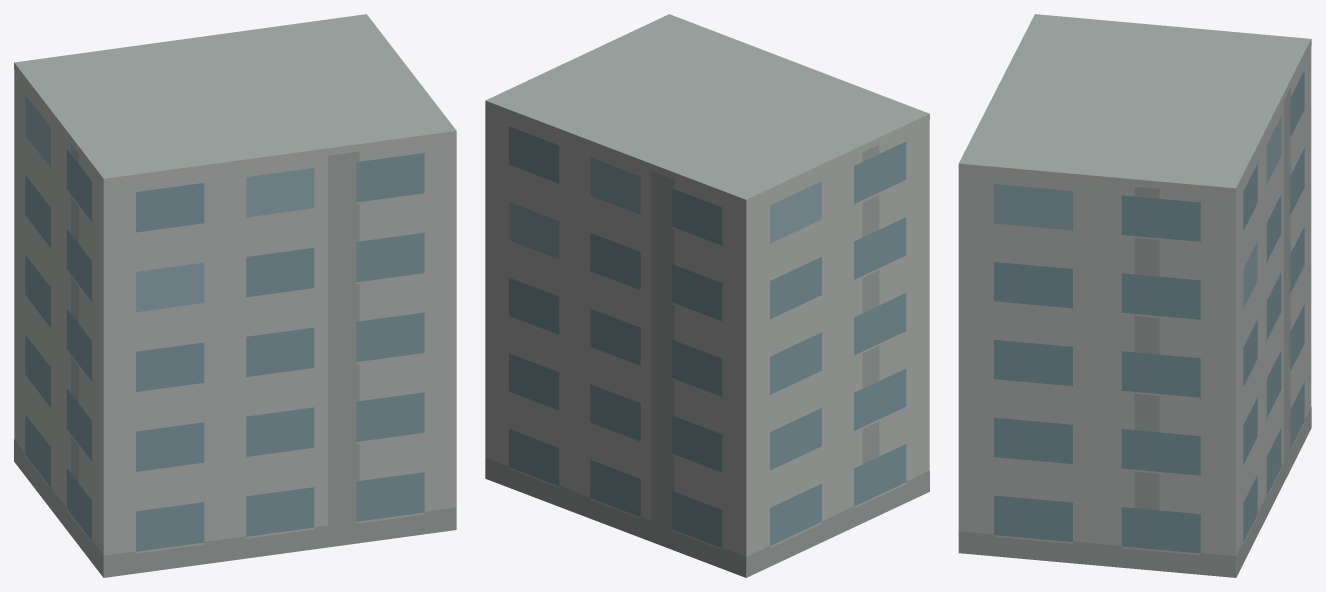
The model's file is survey-upis-32539308.glb.
3 renders of one model, left to right at view 1: azimuth 30°, elevation 25°; view 2: azimuth 150°, elevation 25°; view 3: azimuth 270°, elevation 25°, orthographic. The views are drawn at different scales.
Parts seen in each view (by area): view 1: survey-upis-32539308.tmp; view 2: survey-upis-32539308.tmp; view 3: survey-upis-32539308.tmp.
Boxes of the visible parts, x1,y1,x2,y2 form: survey-upis-32539308.tmp: [14, 14, 456, 577]; survey-upis-32539308.tmp: [485, 14, 929, 577]; survey-upis-32539308.tmp: [958, 14, 1311, 577].
Bounding box in the file's own units: 12.49 × 13 × 10.68.
